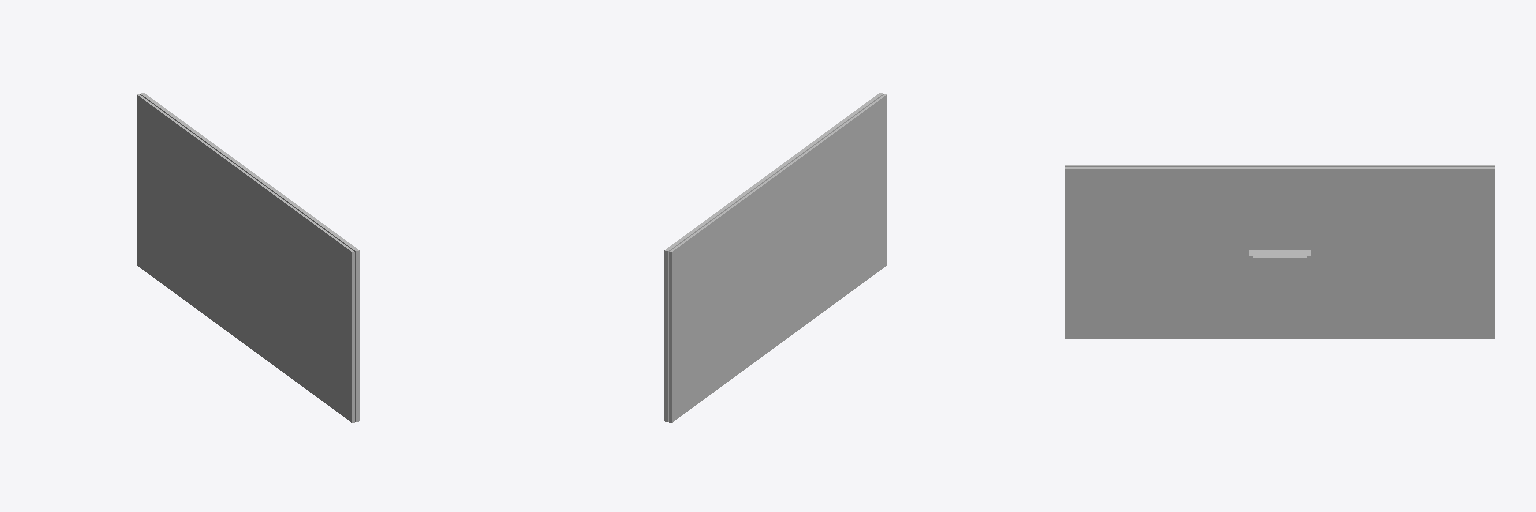
Rendered from burnside.obj.
3 renders of one model, left to right at view 1: azimuth 30°, elevation 25°; view 2: azimuth 150°, elevation 25°; view 3: azimuth 270°, elevation 25°, orthographic.
Parts seen in each view (by area): view 1: cube; view 2: cube; view 3: cube.
Part boxes in pixels (x1,y1,x2,y2): cube: (137, 93, 359, 422); cube: (664, 93, 886, 422); cube: (1065, 165, 1494, 338).
Size of the model in its own units: 0.0922 by 0.6562 by 1.5.